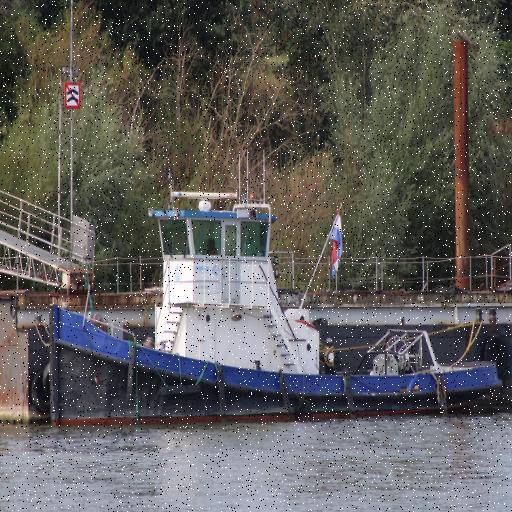tugboat: (45, 147, 506, 442)
